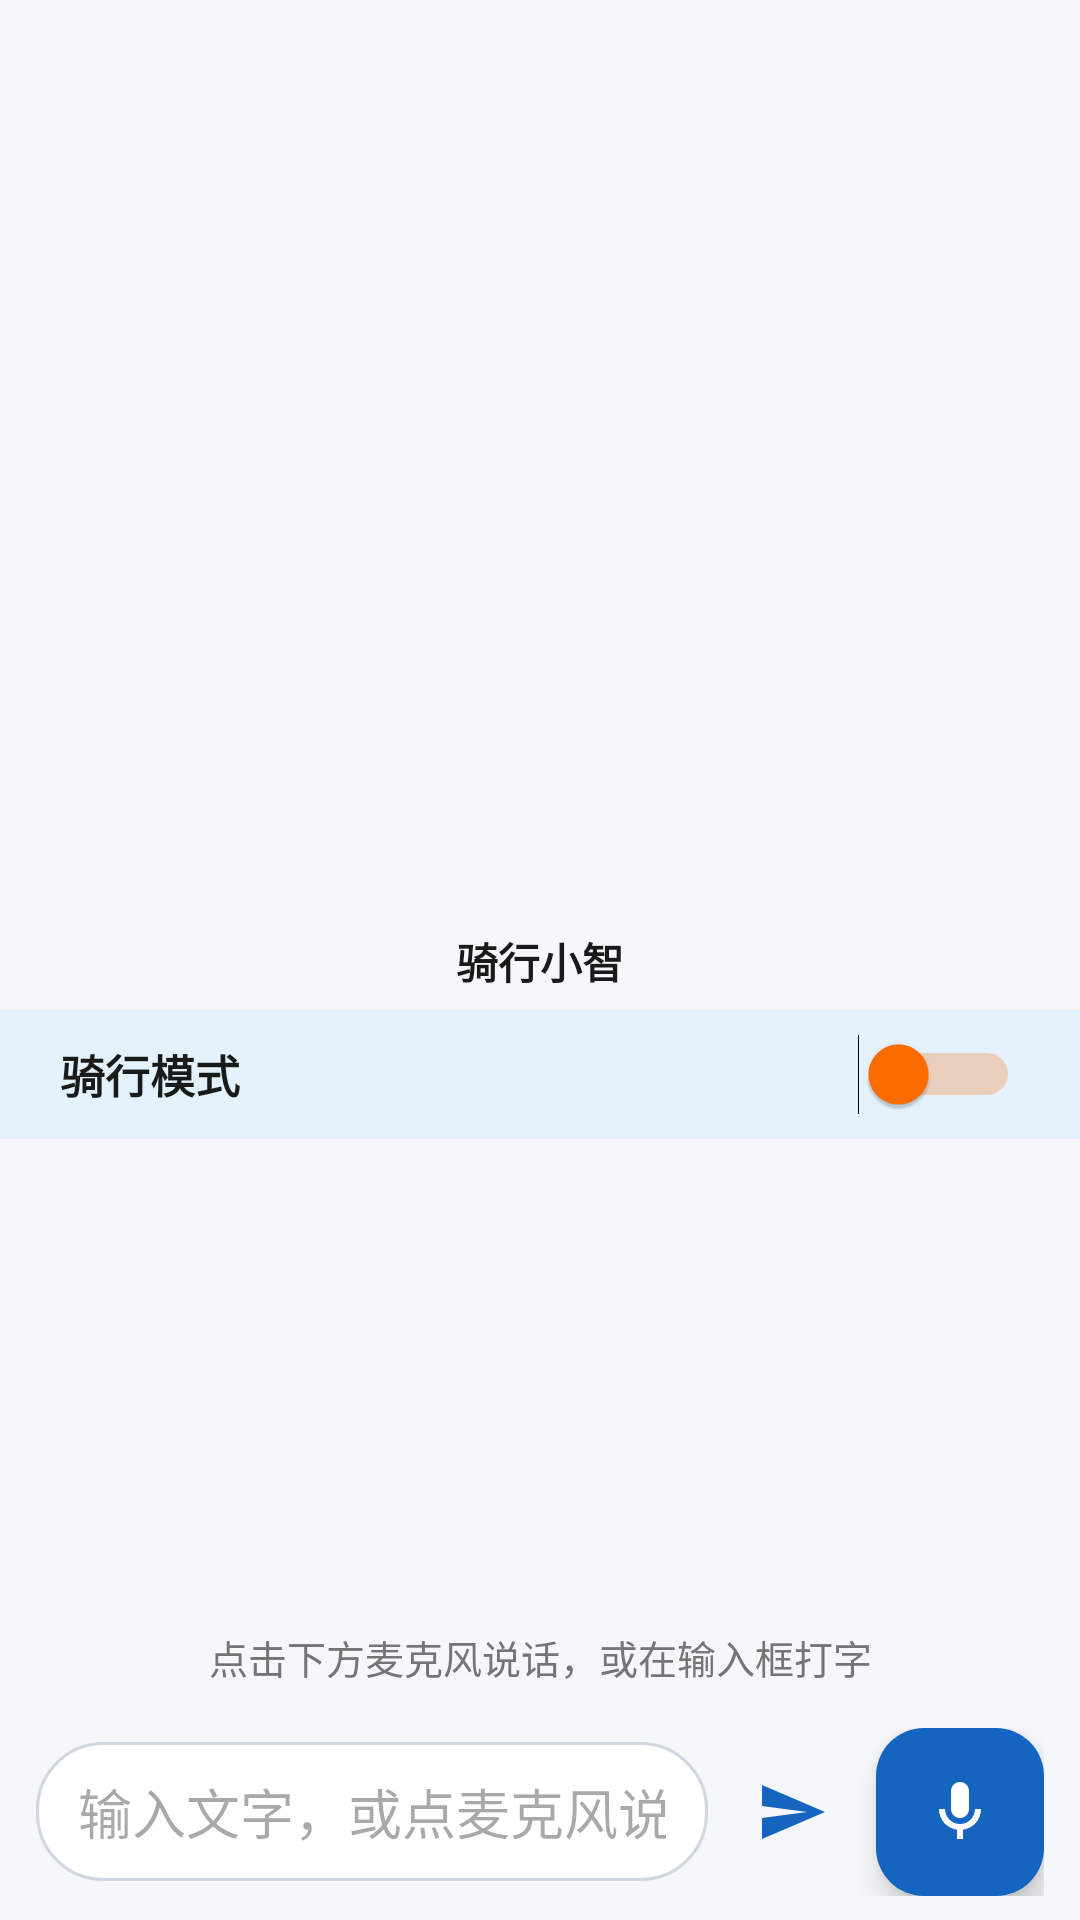

Icons on this 1080 x 1920 Android screen, each with the point to tap as point (x, y):
发送: point (793, 1812)
